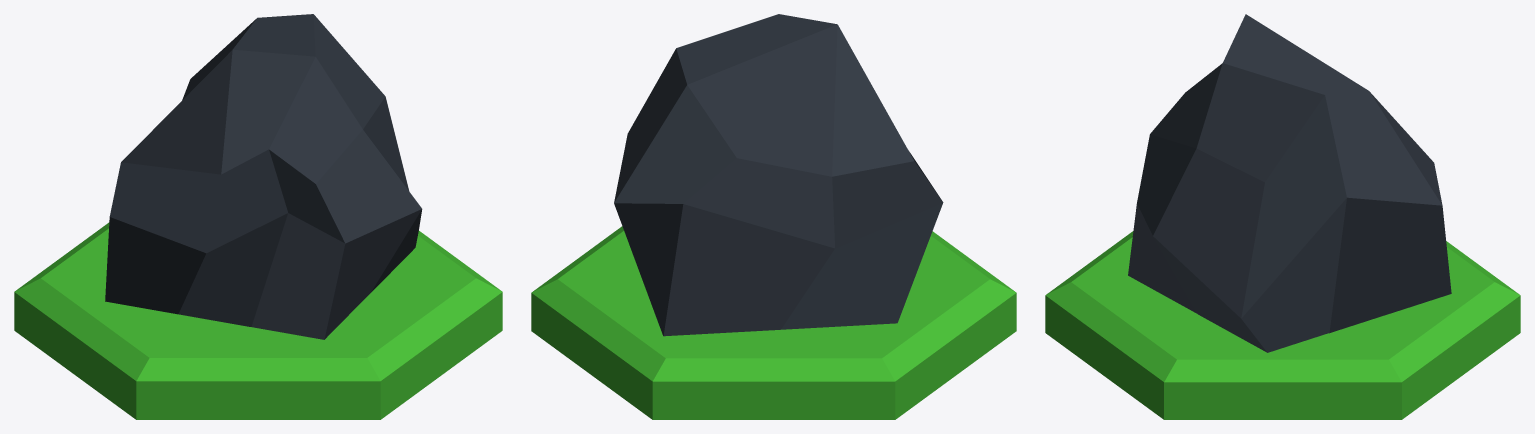
The model's file is tile_beveled_with_one_big_rock.fbx.
3 views of the same model, side by side, from view 1: azimuth 30°, elevation 25°; view 2: azimuth 150°, elevation 25°; view 3: azimuth 270°, elevation 25° (orthographic). The views are drawn at different scales.
Parts seen in each view (by area): view 1: Cube.001, Cylinder; view 2: Cube.001, Cylinder; view 3: Cube.001, Cylinder.
Boxes of the visible parts, x1,y1,x2,y2 form: Cube.001: (105,14,422,339); Cylinder: (14,222,502,419); Cube.001: (614,14,943,336); Cylinder: (531,226,1016,419); Cube.001: (1128,14,1451,352); Cylinder: (1045,231,1520,419).
Size of the model in its own units: 17.32 by 13.82 by 20.
